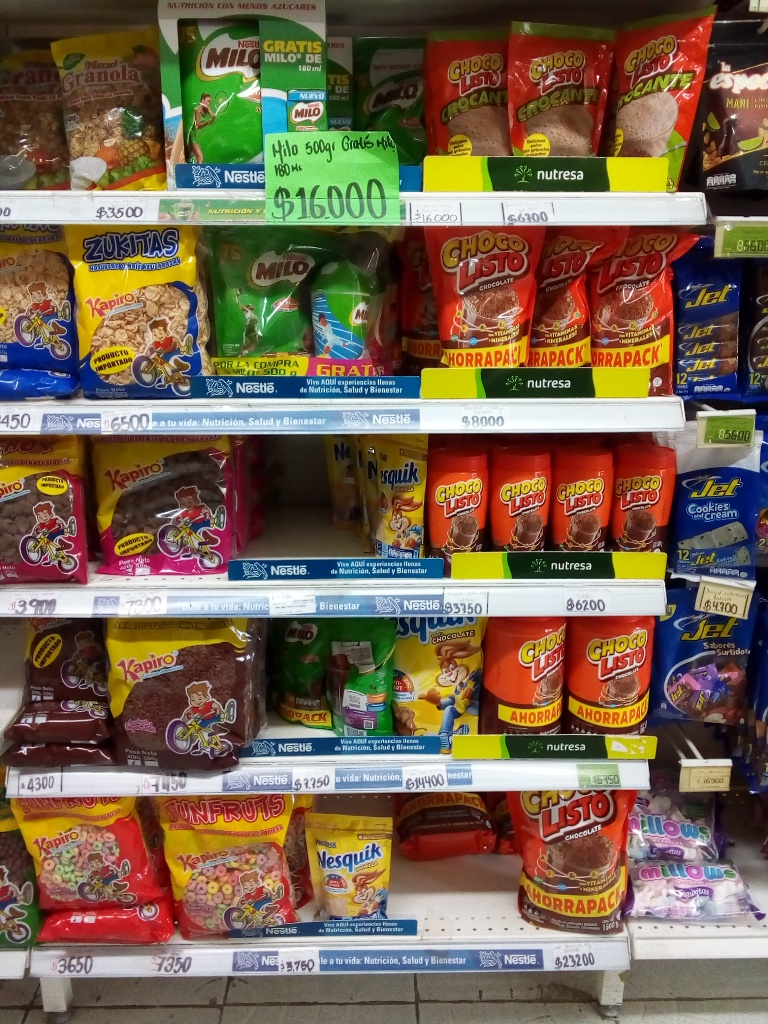COL0170102DYP25000: (421, 27, 508, 188)
COL0170103DYP1,500: (502, 785, 639, 938)
COL0170103DYP40000: (417, 224, 536, 369)
COL0170103TRR00100: (484, 613, 569, 745)
COL0170103TRR30000: (427, 444, 490, 561)
COL0170203DYP25000: (268, 616, 333, 732)
COL0170203DYP50000: (198, 223, 313, 393)
COL0170205DYP50000: (177, 6, 274, 183)
COL0170306DYP20000: (299, 809, 392, 923)
